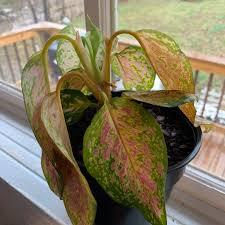root_rot: (14, 21, 213, 225)
